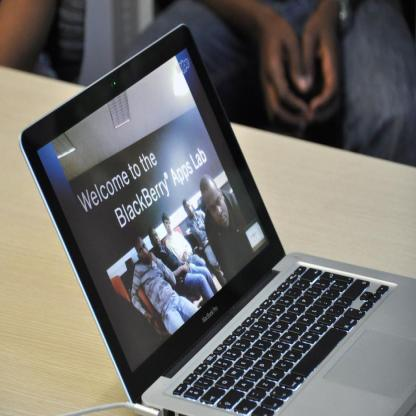board: (47, 40, 410, 416)
